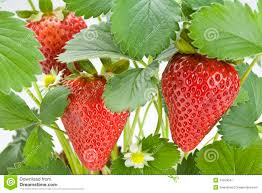ripe: (50, 61, 134, 174), (161, 48, 239, 153), (24, 13, 97, 85)
